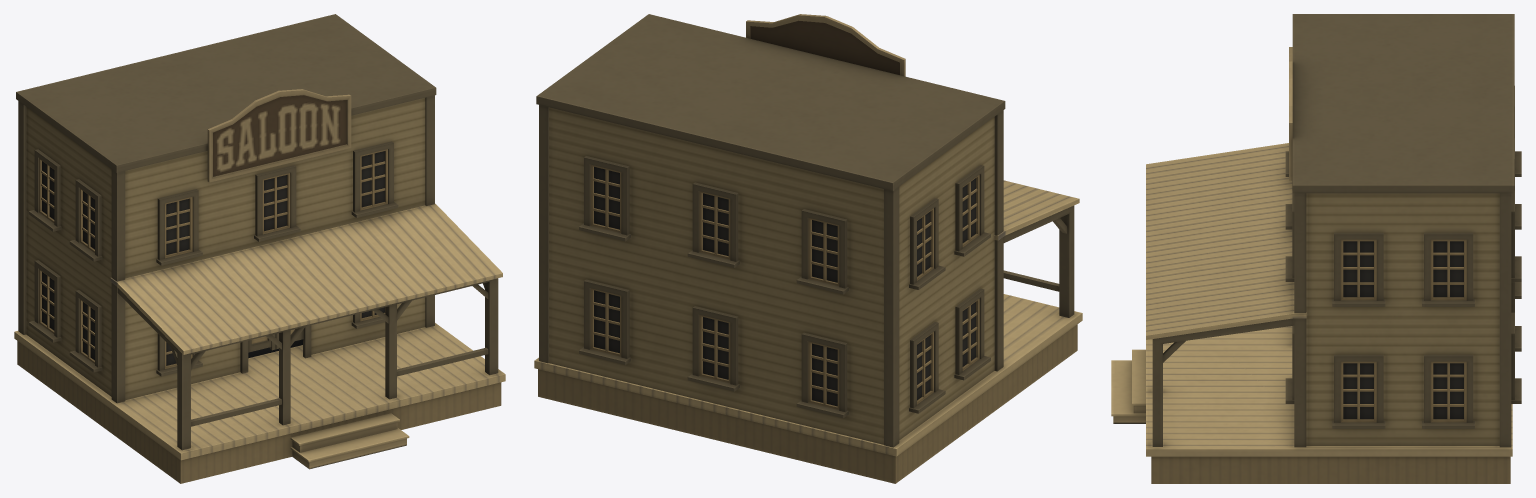
File: west_saloon.glb
3 renders of one model, left to right at view 1: azimuth 30°, elevation 25°; view 2: azimuth 150°, elevation 25°; view 3: azimuth 270°, elevation 25°, orthographic. The views are drawn at different scales.
Visible parts, largest first — view 1: Saloon_Mesh; view 2: Saloon_Mesh; view 3: Saloon_Mesh.
Boxes of the visible parts, bbox=[...] form: Saloon_Mesh: bbox=[14, 14, 505, 483]; Saloon_Mesh: bbox=[534, 14, 1082, 483]; Saloon_Mesh: bbox=[1111, 14, 1521, 483].
Bounding box in the file's own units: 15.66 × 13.9 × 15.32.
1 material, 1 textured.
